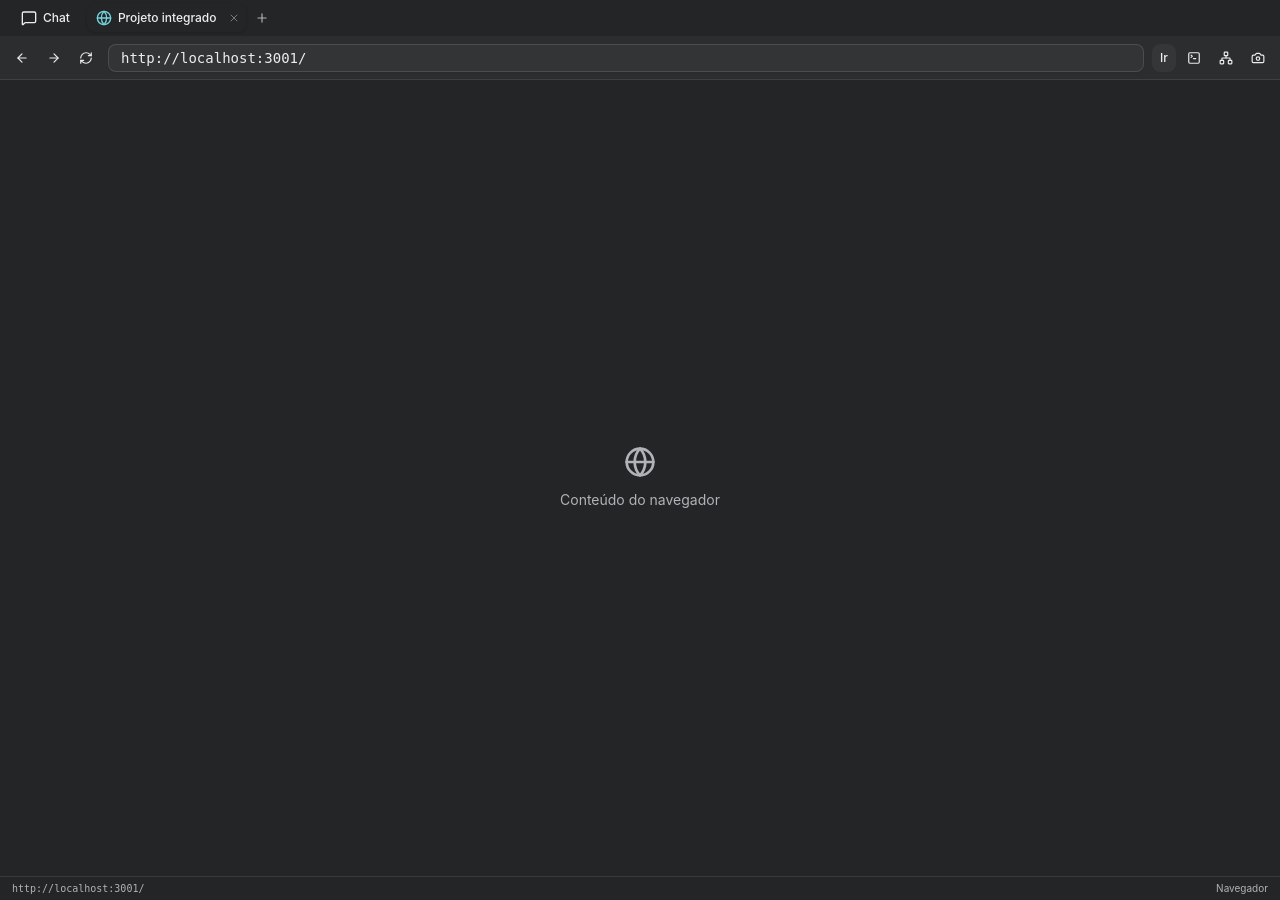
Test case: inspects the integrated Chromium network without requiring an external browser
The image size is (1280, 900).
Click the button named "Mostrar rede" at [1226, 58], box [1212,44,1240,72]
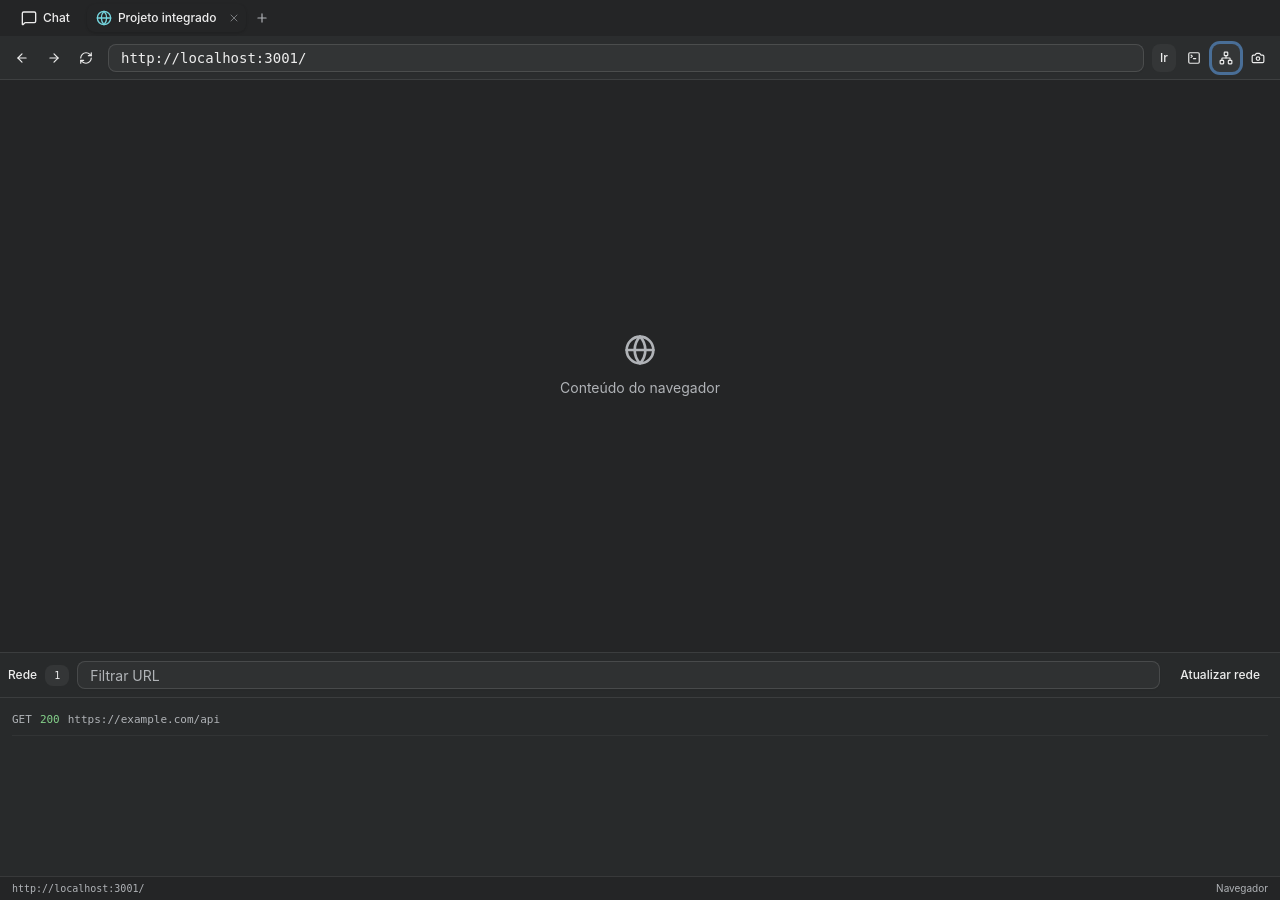
Expected: the text "https://example.com/api" is shown, [68,712,220,728]
